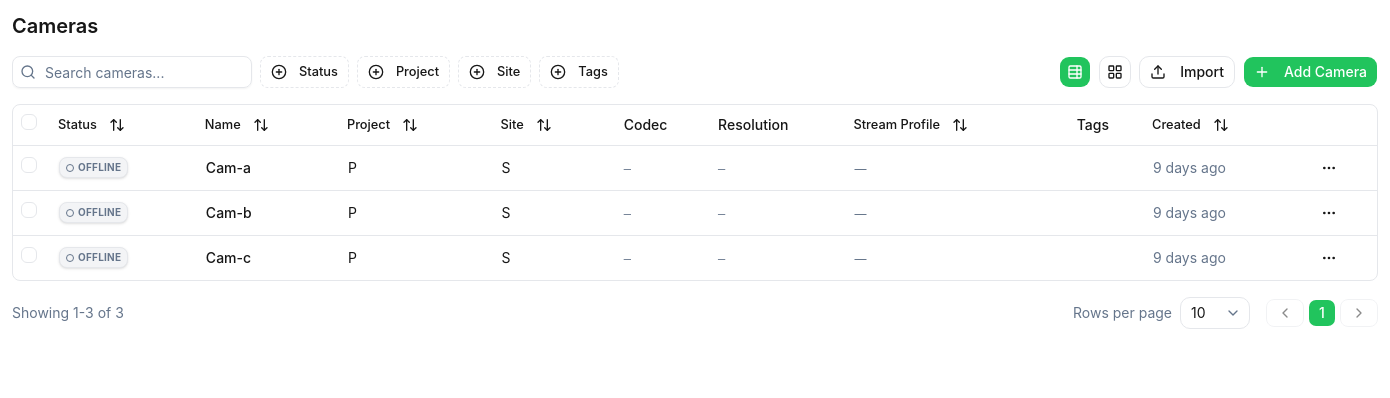
Test: TenantCamerasPage — bulk toolbar integration (D-04) › counter chip reflects selection count
Expected: the text "Cam-a" is shown, [206,158,251,176]
Expected: the text "Cam-b" is shown, [206,204,252,220]
What coordinates should you click on to do the following:
click the checkbox named "Select camera Cam-a"
I would click on:
 (29, 165)
Its box is [21,157,37,173].
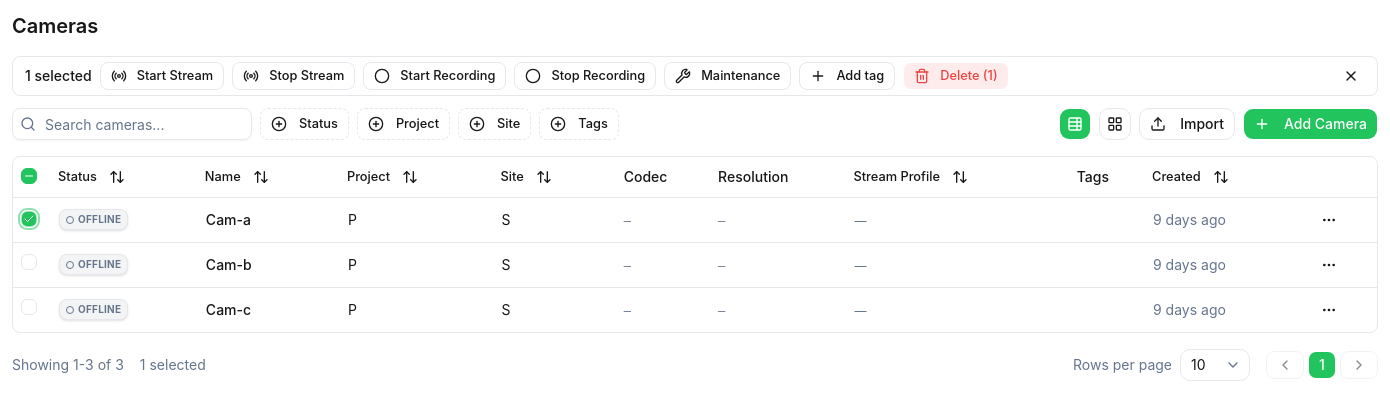
Expected: the 1st text "1 selected" is shown, [25,66,92,86]
What coordinates should you click on to do the following:
click the checkbox named "Select camera Cam-b"
I would click on:
 (29, 262)
Its box is [21,254,37,270].
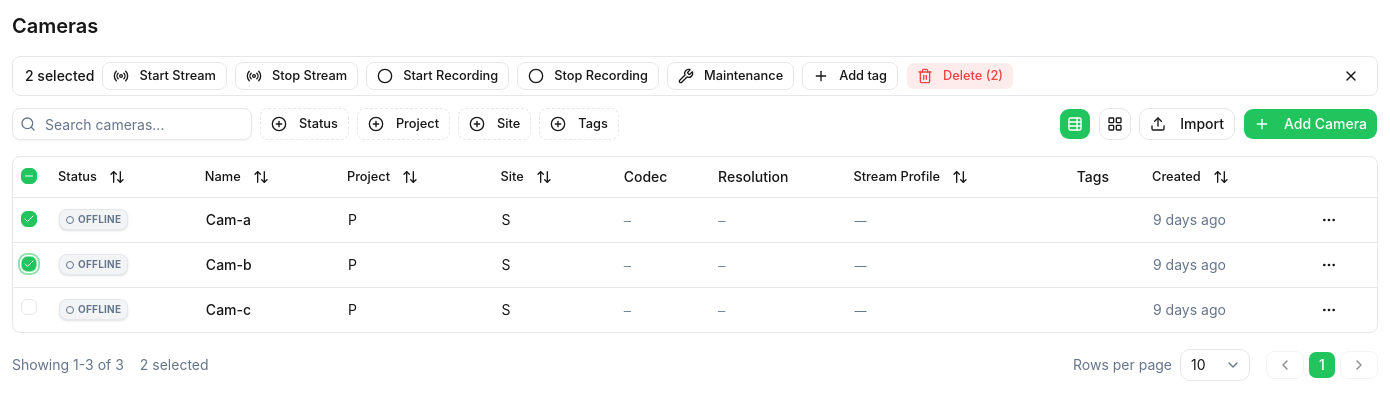
Expected: the 1st text "2 selected" is shown, [25,66,94,86]
